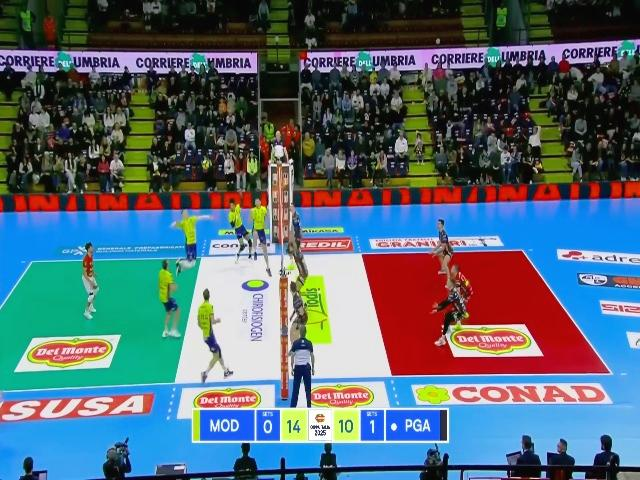volleyball court: (1, 250, 611, 386)
